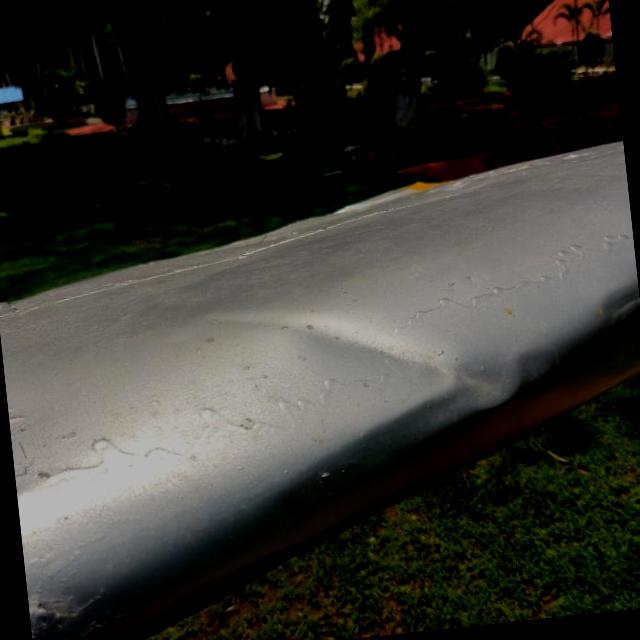dent: (222, 252, 585, 487), (595, 280, 640, 335)
